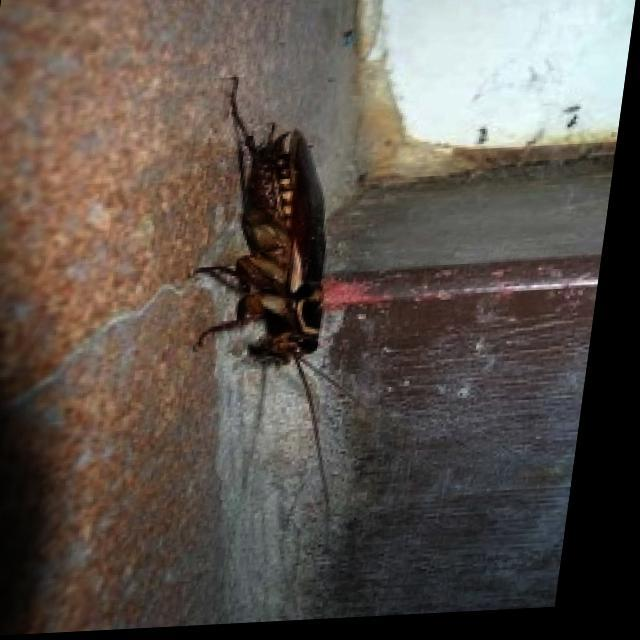cockroach: (186, 70, 356, 549)
